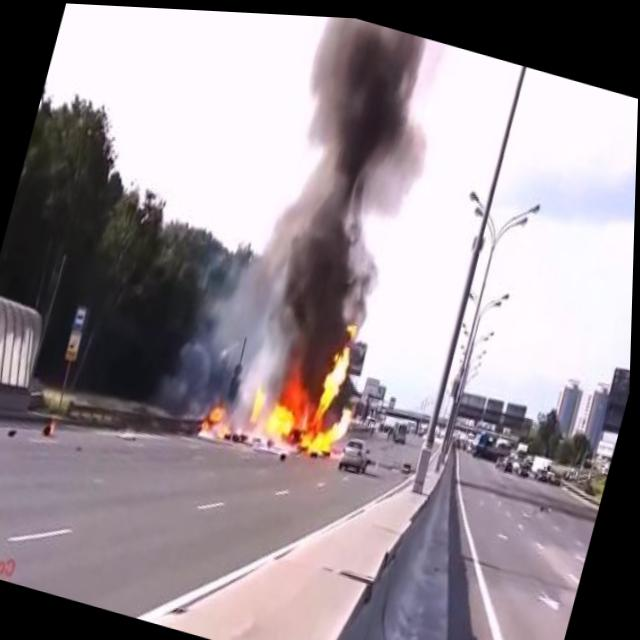fire: (240, 311, 374, 470), (196, 394, 240, 448)
